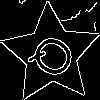Q: (26, 29, 86, 88)
